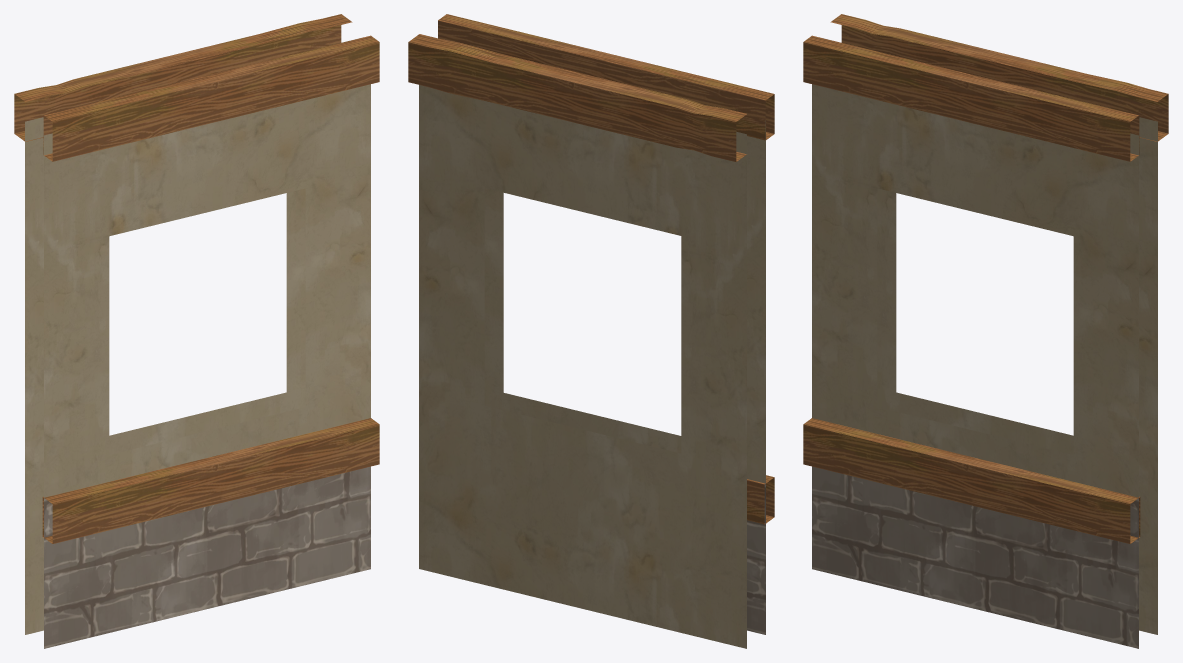
Rendered from Wall_Plaster_Window_Wide_Flat.gltf.
3 renders of one model, left to right at view 1: azimuth 30°, elevation 25°; view 2: azimuth 150°, elevation 25°; view 3: azimuth 330°, elevation 25°, orthographic.
Visible parts, largest first — view 1: Wall_Plaster_Window_Wide_Flat; view 2: Wall_Plaster_Window_Wide_Flat; view 3: Wall_Plaster_Window_Wide_Flat.
Part boxes in pixels (bbox=[...]): Wall_Plaster_Window_Wide_Flat: bbox=[14, 14, 379, 648]; Wall_Plaster_Window_Wide_Flat: bbox=[408, 14, 774, 648]; Wall_Plaster_Window_Wide_Flat: bbox=[803, 14, 1168, 648].
Size of the model in its own units: 2 by 3.12 by 0.4065.
3 materials, 3 textured.
